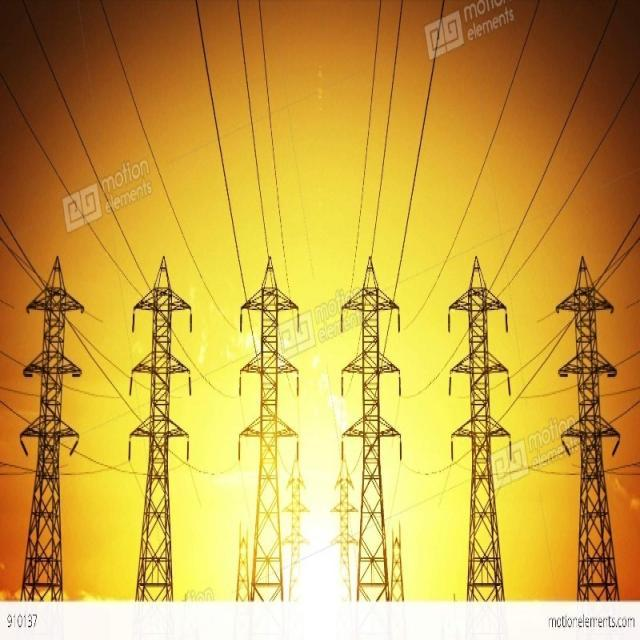non-critical vegetation: (432, 247, 520, 584), (229, 260, 313, 602), (334, 262, 416, 602), (545, 260, 625, 589), (127, 257, 191, 589), (22, 257, 78, 593)
